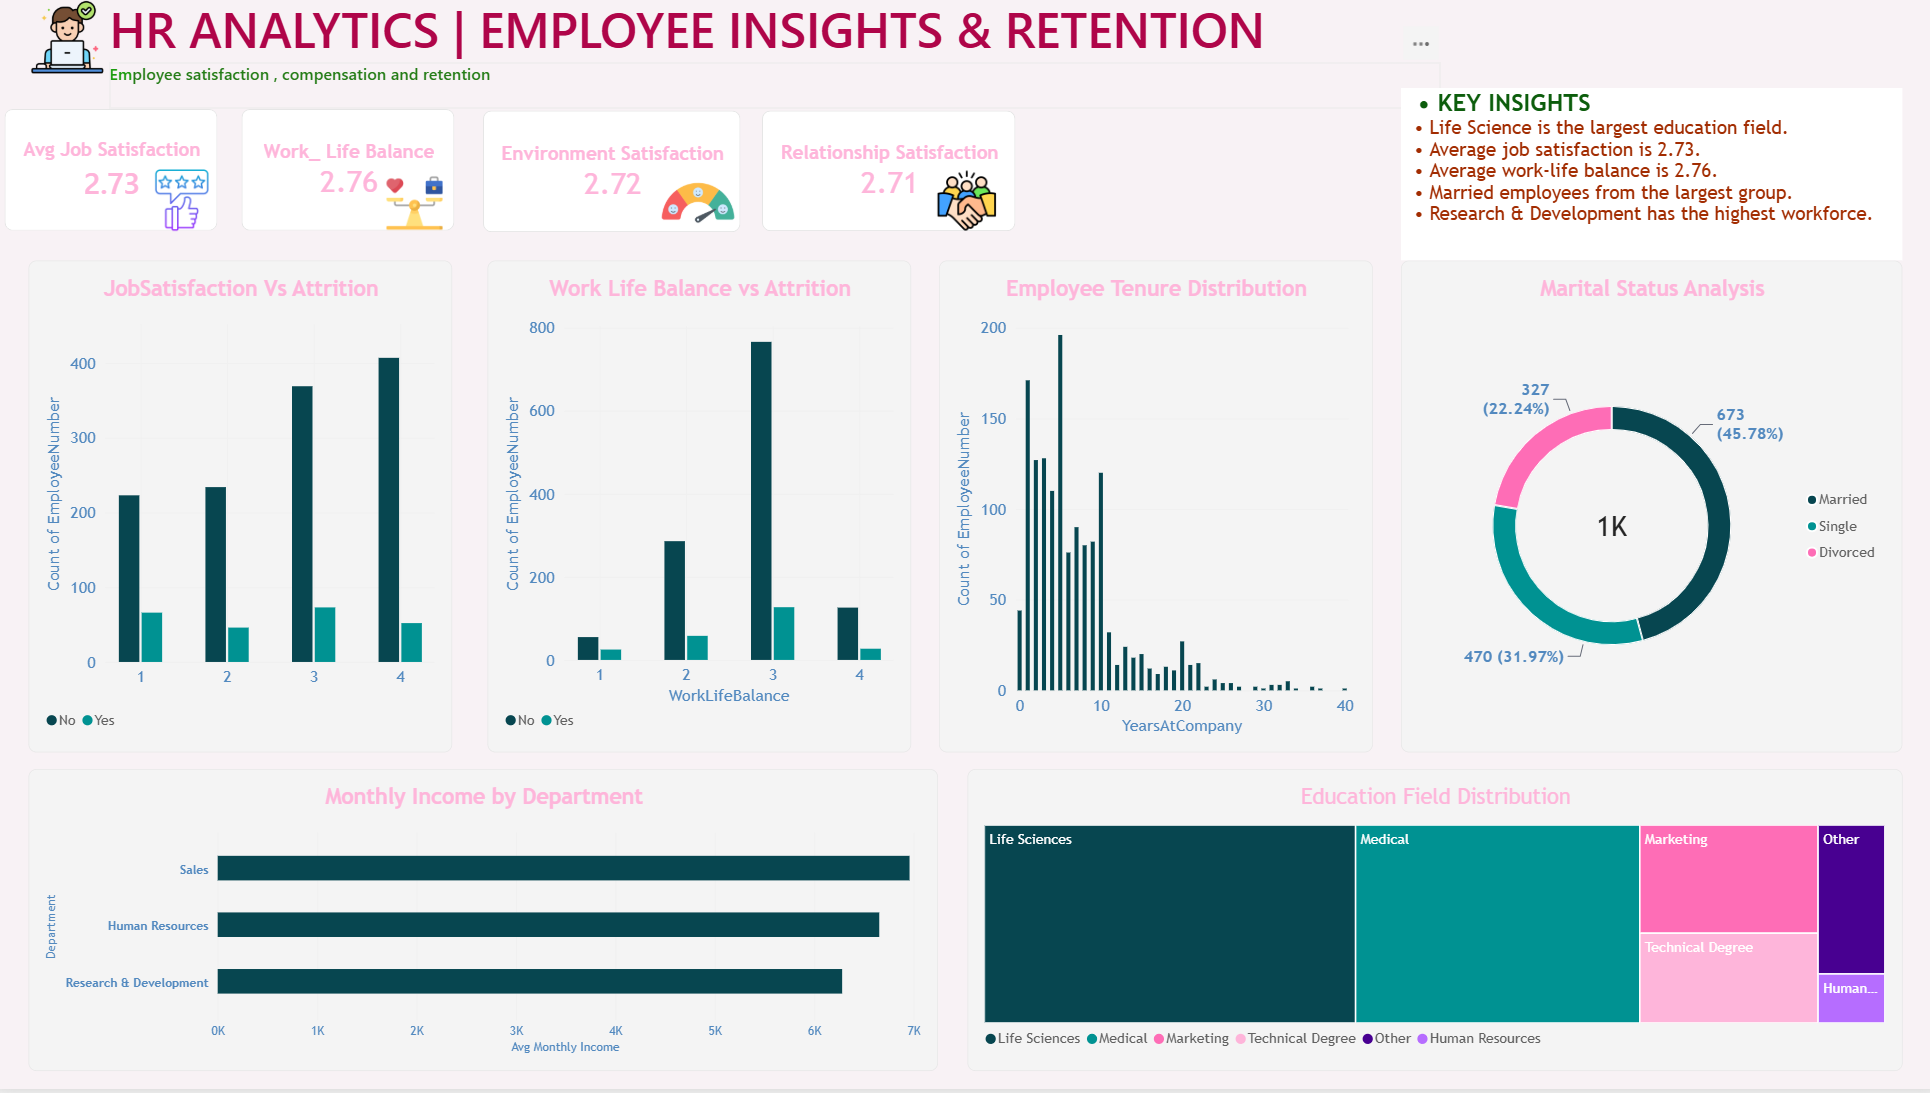

The page's visual inventory and layout, read from the dashboard file:
{"tool":"powerbi","page":{"name":"employee insights","canvas":[1920,1080],"ordinal":2},"visuals":[{"type":"textbox","box":[114.6,0,1312,280.7],"z":0},{"type":"textbox","box":[114.6,66.8,1312,45.8],"z":2},{"type":"clusteredColumnChart","title":"JobSatisfaction Vs Attrition","fields":{"Category":["analytics_db employee_attrition.JobSatisfaction"],"Series":["analytics_db employee_attrition.Attrition"],"Y":["CountNonNull(analytics_db employee_attrition.EmployeeNumber)"]},"box":[34.4,261.6,418.3,485.1],"z":3},{"type":"clusteredColumnChart","title":"Work Life Balance vs Attrition","fields":{"Category":["analytics_db employee_attrition.WorkLifeBalance"],"Series":["analytics_db employee_attrition.Attrition"],"Y":["CountNonNull(analytics_db employee_attrition.EmployeeNumber)"]},"box":[487,261.6,418.3,485.1],"z":4},{"type":"barChart","title":"Monthly Income by Department","fields":{"Category":["analytics_db employee_attrition.Department"],"Y":["analytics_db employee_attrition.Avg Monthly Income"]},"box":[34.4,763.9,897.6,297.9],"z":5},{"type":"columnChart","title":"Employee Tenure Distribution","fields":{"Category":["analytics_db employee_attrition.YearsAtCompany"],"Y":["CountNonNull(analytics_db employee_attrition.EmployeeNumber)"]},"box":[932,261.6,427.8,485.1],"z":6},{"type":"treemap","title":"Education Field Distribution","fields":{"Group":["analytics_db employee_attrition.EducationField"],"Values":["Sum(analytics_db employee_attrition.EmployeeCount)"]},"box":[960.6,763.9,922.4,297.9],"z":7},{"type":"donutChart","title":"Marital Status Analysis","fields":{"Category":["analytics_db employee_attrition.MaritalStatus"],"Y":["Sum(analytics_db employee_attrition.EmployeeCount)"]},"box":[1388.4,261.6,494.6,485.1],"z":8},{"type":"cardVisual","fields":{"Data":["analytics_db employee_attrition.Average Job Satisfaction"]},"box":[10.4,112.5,210.1,120.3],"z":9},{"type":"cardVisual","fields":{"Data":["analytics_db employee_attrition.Average Work Life Balance"]},"box":[244.2,112.5,210.1,120.3],"z":10},{"type":"cardVisual","fields":{"Data":["Avg(analytics_db employee_attrition.EnvironmentSatisfaction)"]},"box":[482.5,114,254,120.3],"z":11},{"type":"cardVisual","fields":{"Data":["Avg(analytics_db employee_attrition.RelationshipSatisfaction)"]},"box":[757.7,114,250.1,119.9],"z":12},{"type":"textbox","box":[1388.4,91.7,494.6,170],"z":13},{"type":"image","box":[34.4,0,76.4,78.3],"z":14},{"type":"image","box":[150.9,171.9,68.8,61.1],"z":15},{"type":"image","box":[376.2,177.6,78.3,55.4],"z":16},{"type":"image","box":[653.2,168.1,84,72.6],"z":17},{"type":"image","box":[916.7,173.8,87.9,59.2],"z":18}]}

Visuals, with their boxes in screenshot pixels (x1, y1, x2, y2), scaled from the page's 1920x1080 canvas onto the 1930x1093 screenshot:
textbox: select_region(115, 0, 1434, 284)
textbox: select_region(115, 68, 1434, 114)
"JobSatisfaction Vs Attrition" clusteredColumnChart: select_region(35, 265, 455, 756)
"Work Life Balance vs Attrition" clusteredColumnChart: select_region(490, 265, 910, 756)
"Monthly Income by Department" barChart: select_region(35, 773, 937, 1075)
"Employee Tenure Distribution" columnChart: select_region(937, 265, 1367, 756)
"Education Field Distribution" treemap: select_region(966, 773, 1893, 1075)
"Marital Status Analysis" donutChart: select_region(1396, 265, 1893, 756)
cardVisual - analytics_db employee_attrition.Average Job Satisfaction: select_region(10, 114, 222, 236)
cardVisual - analytics_db employee_attrition.Average Work Life Balance: select_region(245, 114, 457, 236)
cardVisual - Avg(analytics_db employee_attrition.EnvironmentSatisfaction): select_region(485, 115, 740, 237)
cardVisual - Avg(analytics_db employee_attrition.RelationshipSatisfaction): select_region(762, 115, 1013, 237)
textbox: select_region(1396, 93, 1893, 265)
image: select_region(35, 0, 111, 79)
image: select_region(152, 174, 221, 236)
image: select_region(378, 180, 457, 236)
image: select_region(657, 170, 741, 244)
image: select_region(921, 176, 1010, 236)
